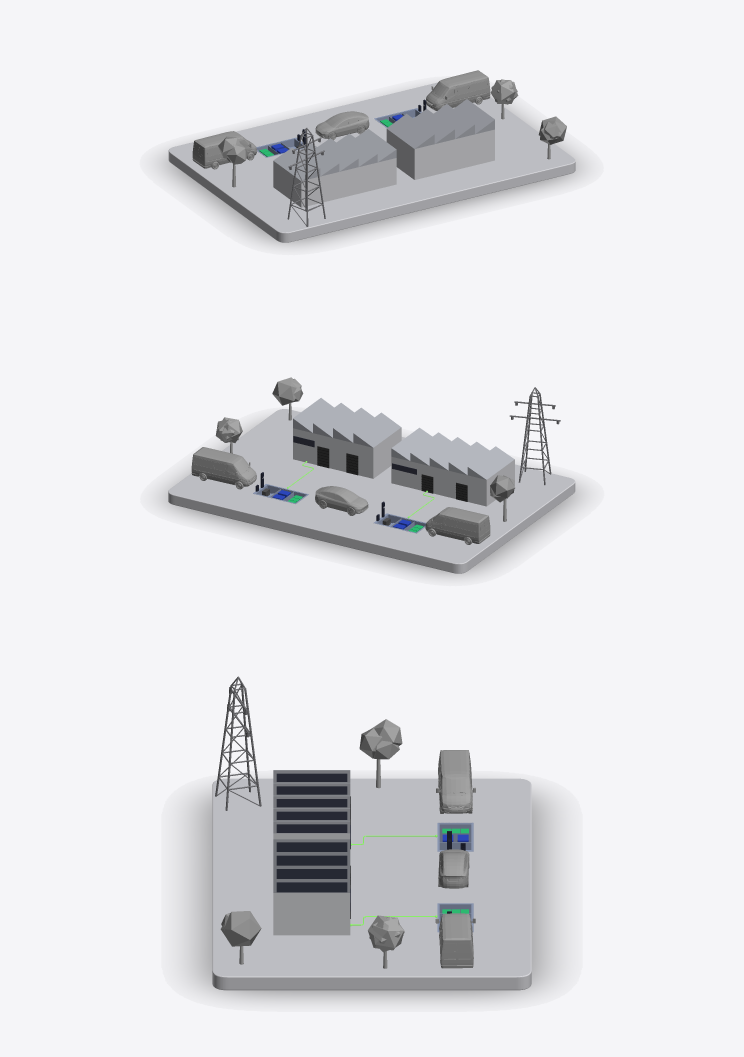
The model's file is sett-scroll-bedrijven-hero.glb.
The picture shows the model from 3 angles, top to bottom: view 1: azimuth 30°, elevation 25°; view 2: azimuth 150°, elevation 25°; view 3: azimuth 270°, elevation 25°; orthographic projection. The views are drawn at different scales.
Parts seen in each view (by area): view 1: object 73, building (×2), contact_shadow, van (×2), car; view 2: object 73, building (×2), van (×2), contact_shadow, car; view 3: object 73, building (×2), contact_shadow, van (×2), car, object 88, object 86.
Part boxes in pixels (<box>): object 73: <box>168,82,575,242</box>; building (×2): <box>273,99,494,207</box>; contact_shadow: <box>164,96,579,244</box>; van (×2): <box>192,70,490,169</box>; car: <box>315,111,369,140</box>; object 73: <box>168,409,575,573</box>; building (×2): <box>293,398,514,506</box>; van (×2): <box>191,447,490,544</box>; contact_shadow: <box>164,425,579,575</box>; car: <box>315,486,368,515</box>; object 73: <box>212,778,531,990</box>; building (×2): <box>273,770,350,935</box>; contact_shadow: <box>192,793,551,998</box>; van (×2): <box>435,750,475,968</box>; car: <box>438,849,469,888</box>; object 88: <box>220,911,261,946</box>; object 86: <box>369,916,403,952</box>.
Bounding box in the file's own units: 4286 × 915 × 4286.
23 materials, 1 textured.
